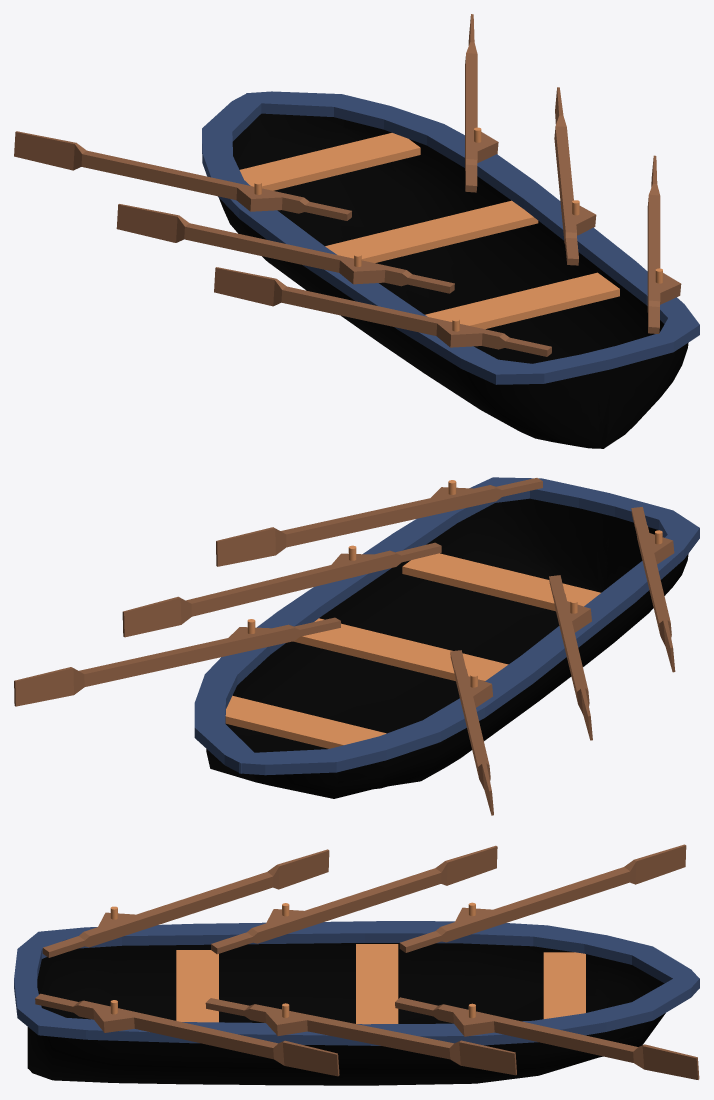
File: M_017.Curragh with oars.fbx
3 views of the same model, one above another, from view 1: azimuth 30°, elevation 25°; view 2: azimuth 150°, elevation 25°; view 3: azimuth 270°, elevation 25° (orthographic). The views are drawn at different scales.
Visible parts, largest first — view 1: Cylinder.010; view 2: Cylinder.010; view 3: Cylinder.010.
Boxes of the visible parts, box(x1,y1,x2,y2) form: Cylinder.010: box(14, 14, 699, 448); Cylinder.010: box(14, 477, 699, 815); Cylinder.010: box(14, 844, 699, 1085).
Size of the model in its own units: 109 by 26.76 by 147.
